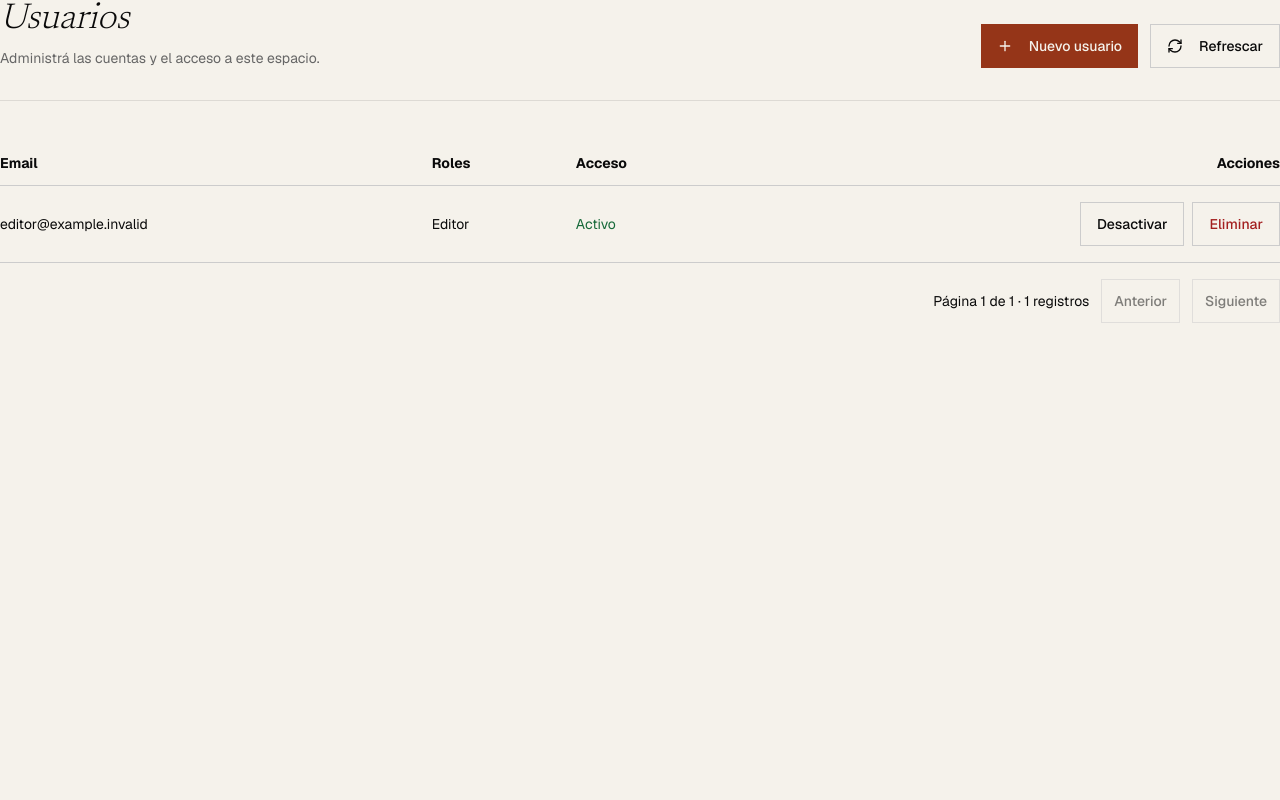
users usa la confirmación activa y sólo muta después de confirmar
The width and height of the screenshot is (1280, 800).
Click the button with aria-label "Eliminar usuario editor@example.invalid" at (1236, 224), box top-left (1192, 202), bottom-right (1279, 246)
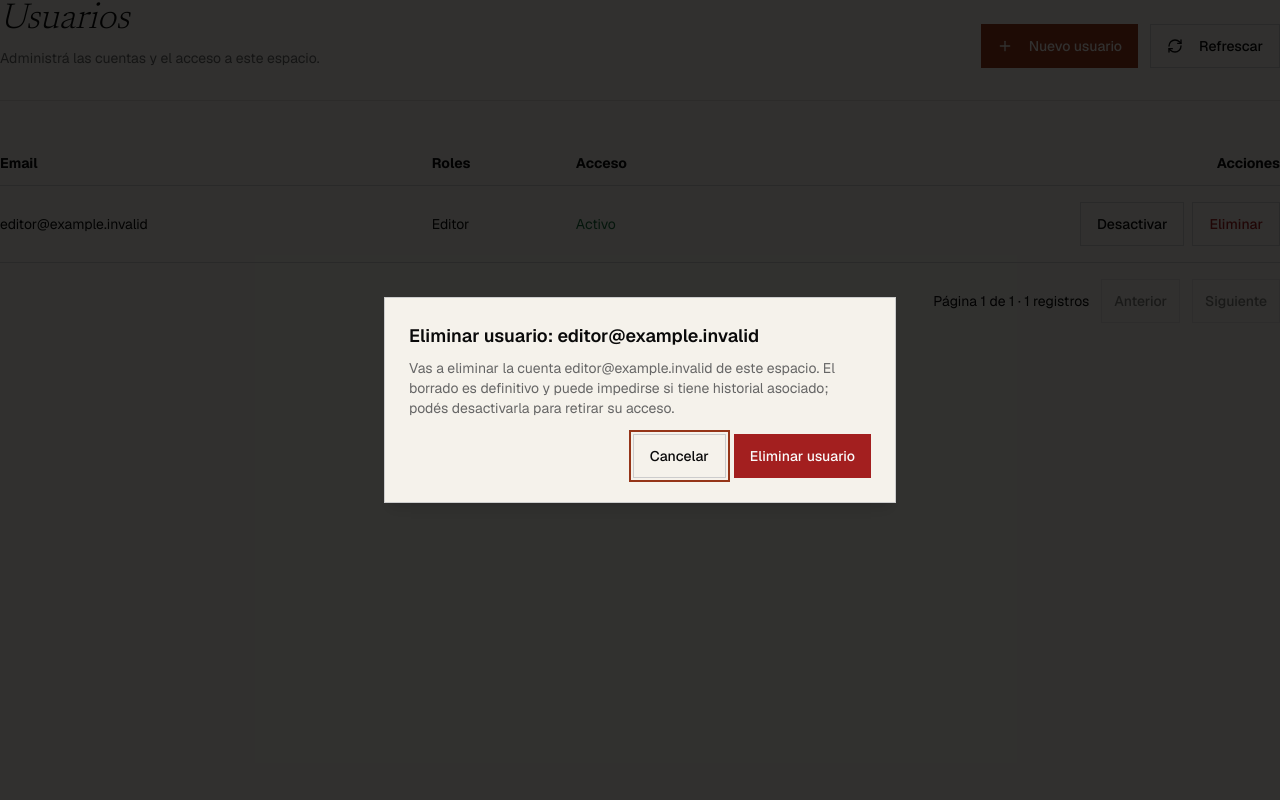
Now the dialog shows "editor@example.invalid", box top-left (409, 324), bottom-right (759, 347)
Click the button "Cancelar" at (679, 456), box top-left (633, 434), bottom-right (726, 478)
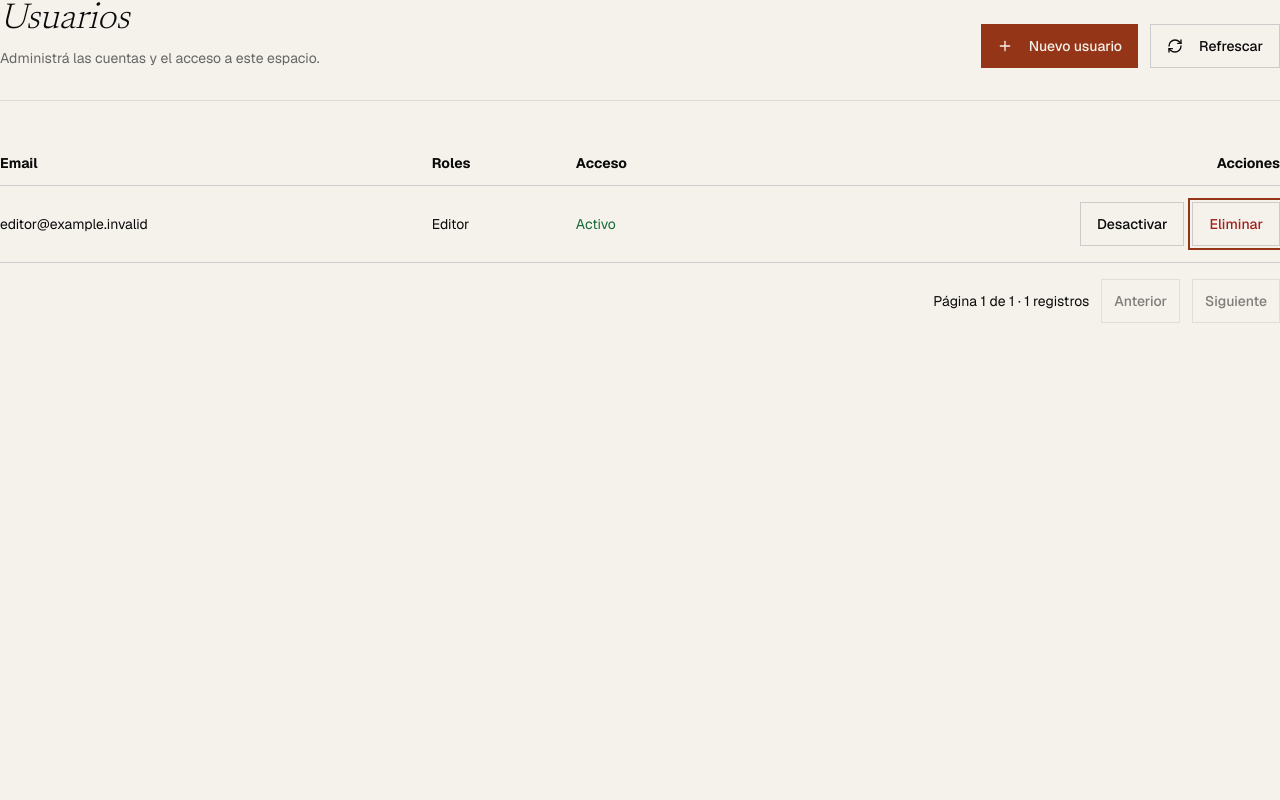
Click the button with aria-label "Eliminar usuario editor@example.invalid" at (1236, 224), box top-left (1192, 202), bottom-right (1279, 246)
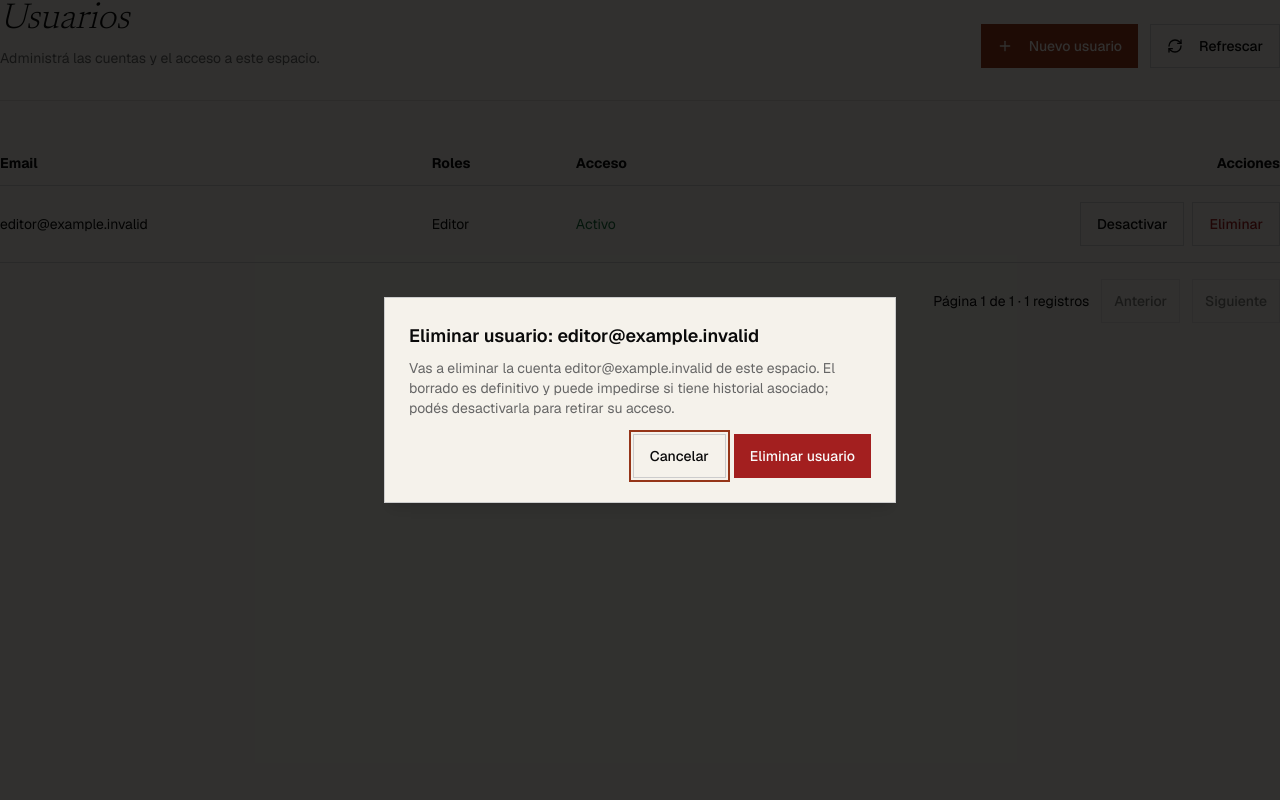
Click the button "Eliminar usuario" at (802, 456), box top-left (734, 434), bottom-right (871, 478)
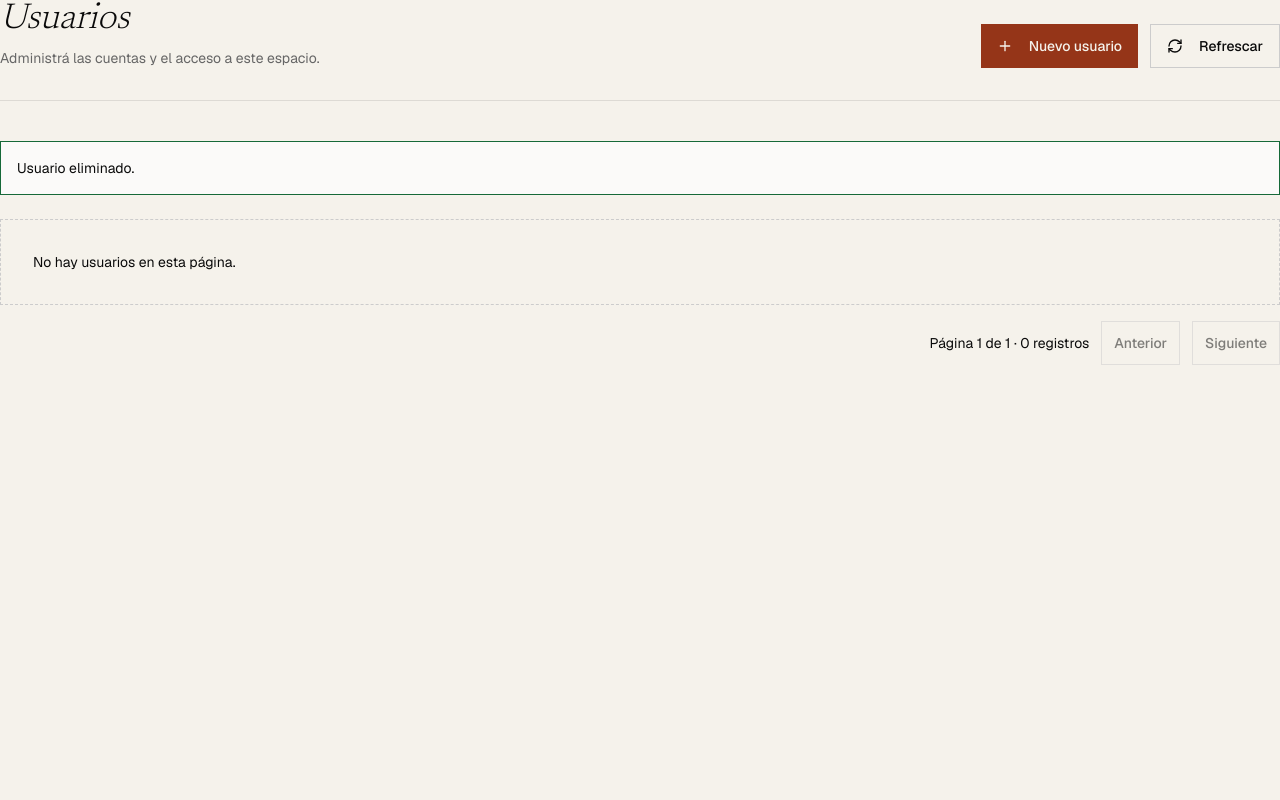
Now the text "Usuario eliminado." is shown, box top-left (0, 141), bottom-right (1279, 195)
